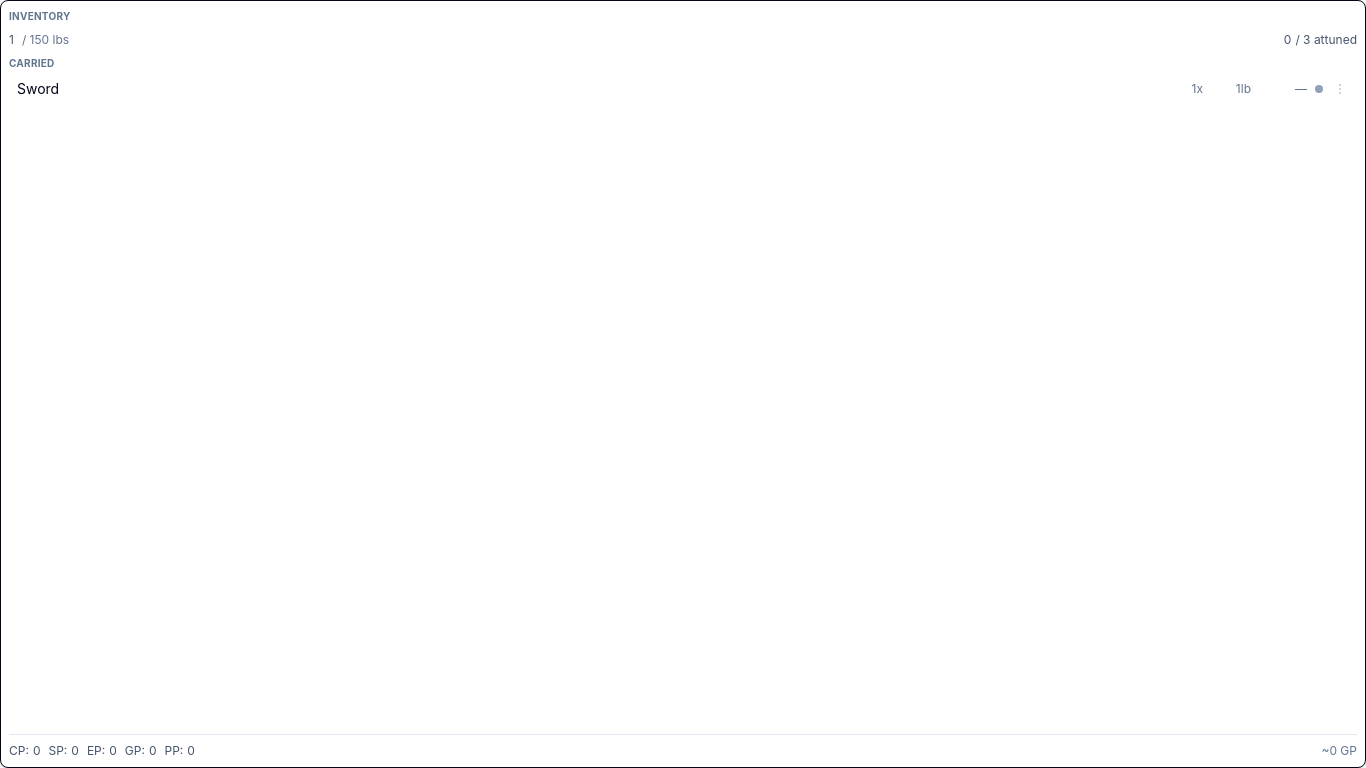
Test: InventoryPanel › kebab menu › clicking kebab opens menu with a Delete option
Click the button named "Actions for Sword" at (1340, 89), box x1=1331 y1=80 x2=1349 y2=98
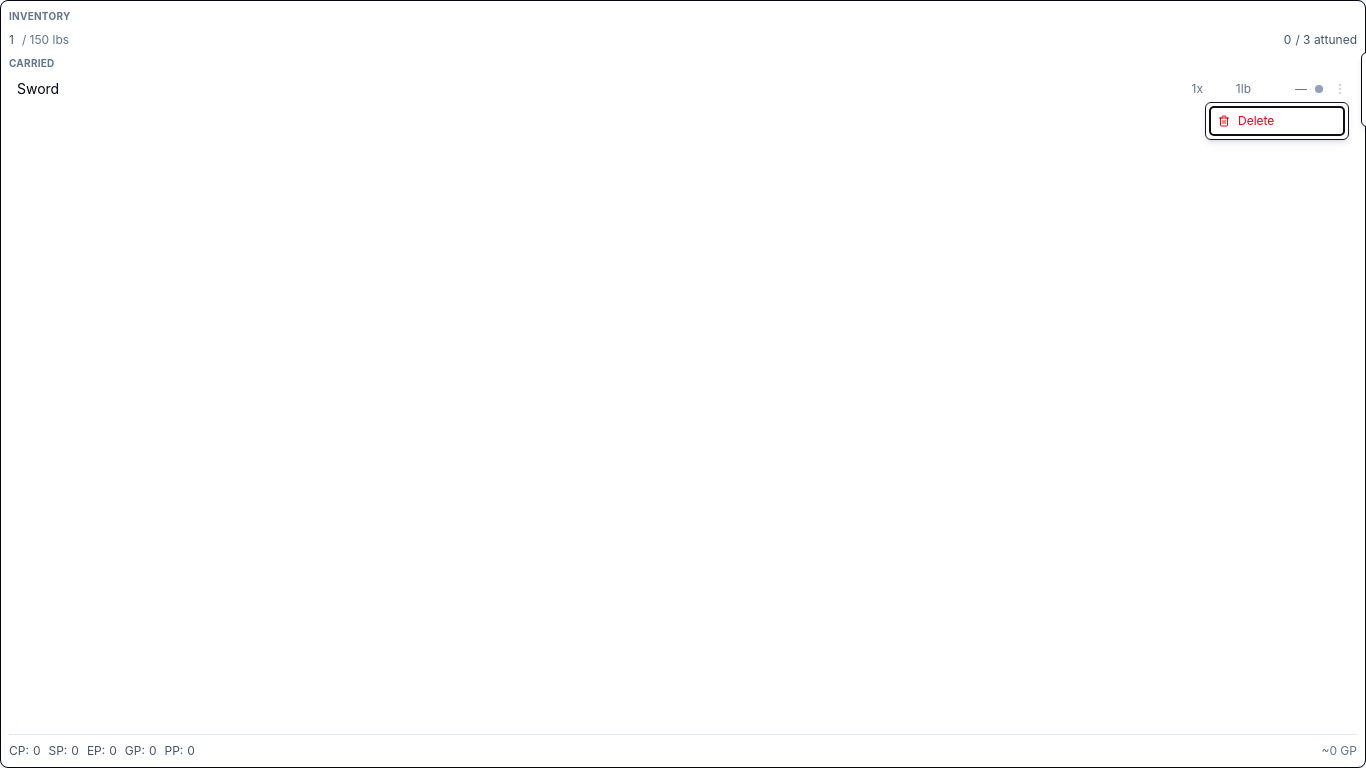
Expected: the menu item "Delete" is shown, x1=1210 y1=107 x2=1344 y2=135
